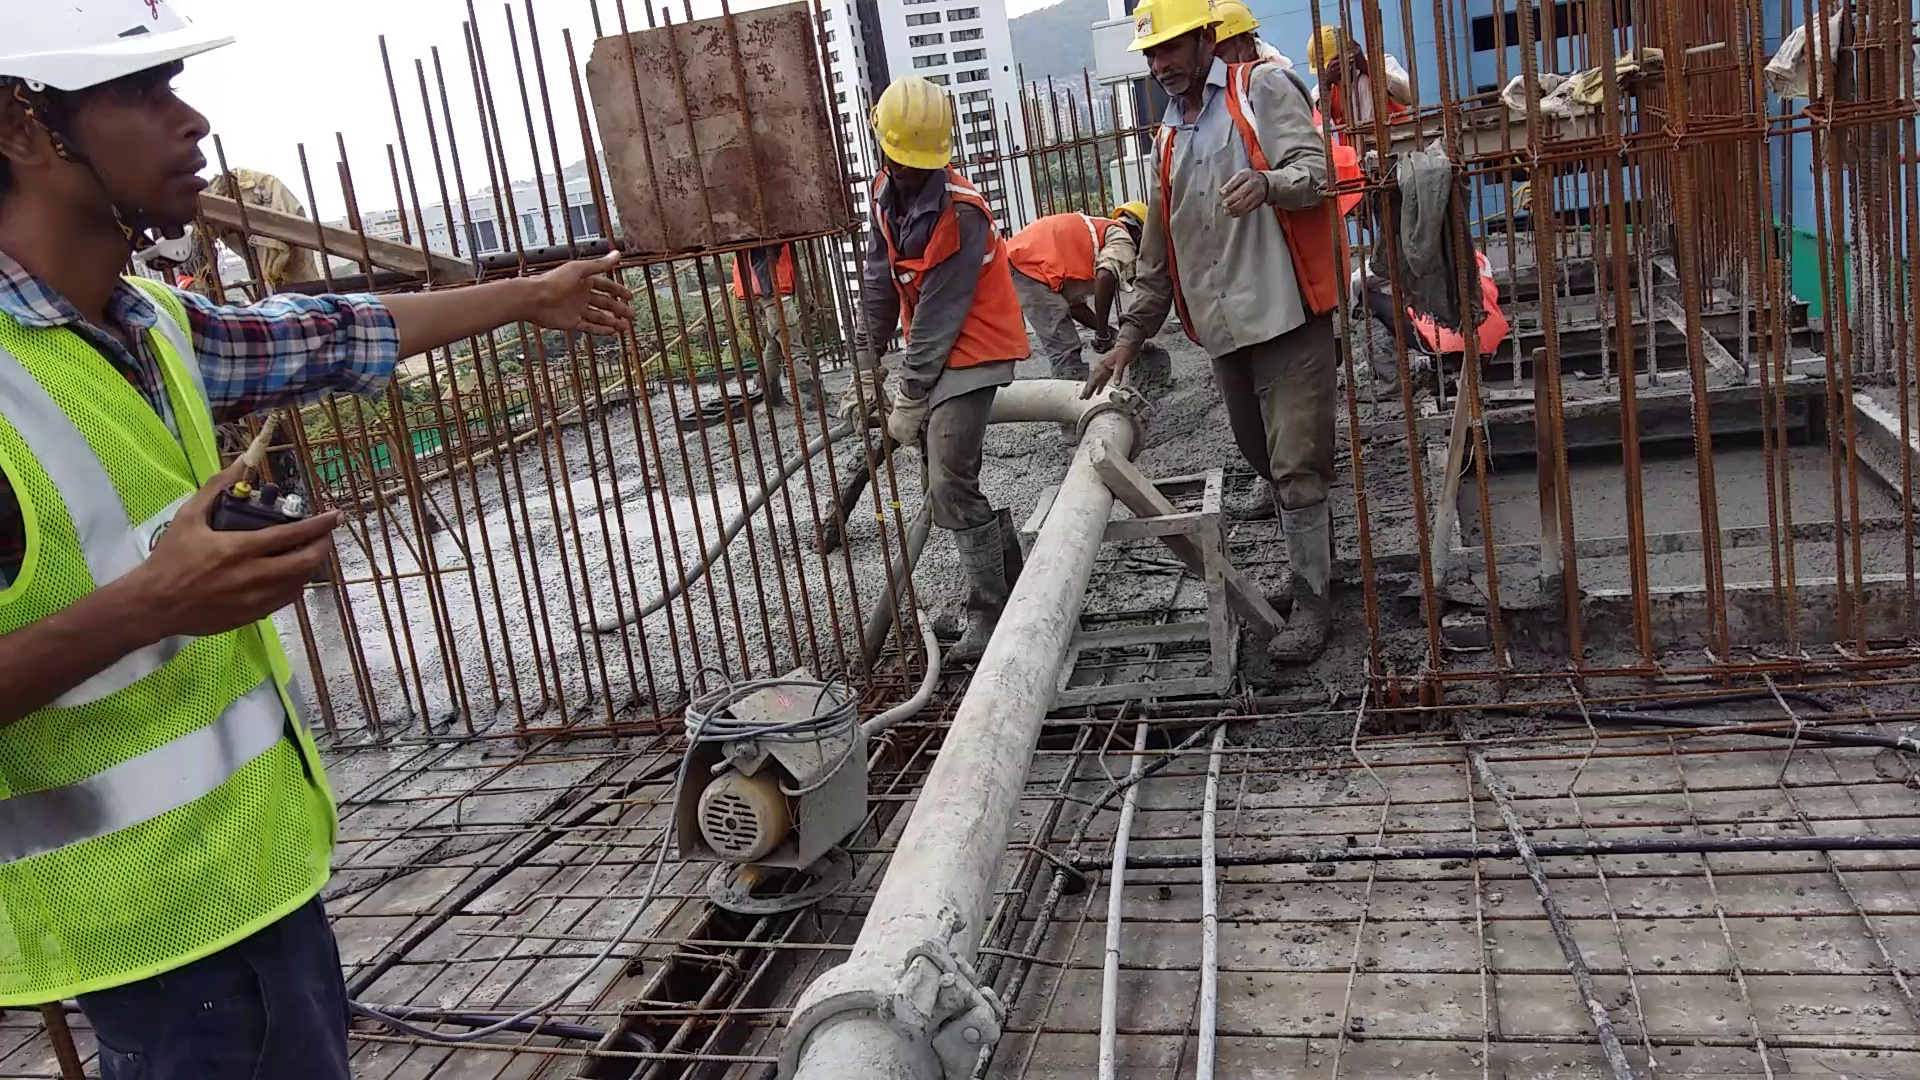SAFE: (1, 5, 326, 992), (1146, 3, 1313, 344), (849, 75, 1009, 402)
